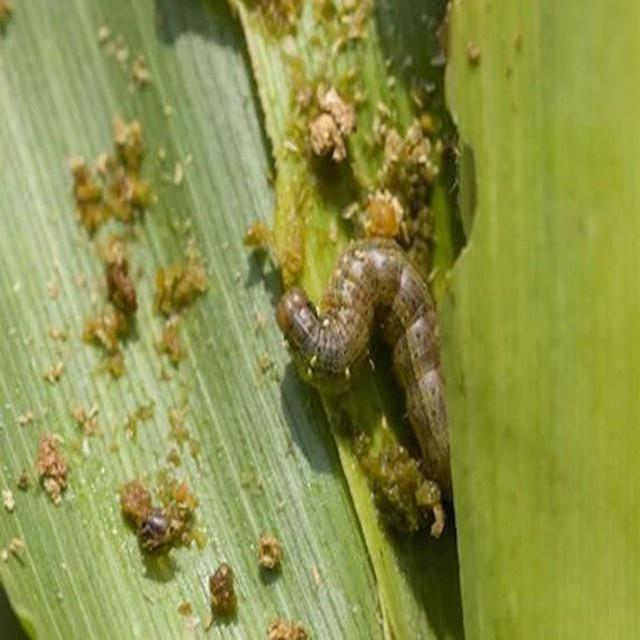gusano_cogollero: (286, 252, 454, 470)
